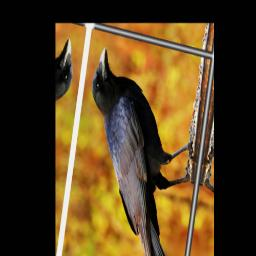Crow: (65, 44, 204, 256)
